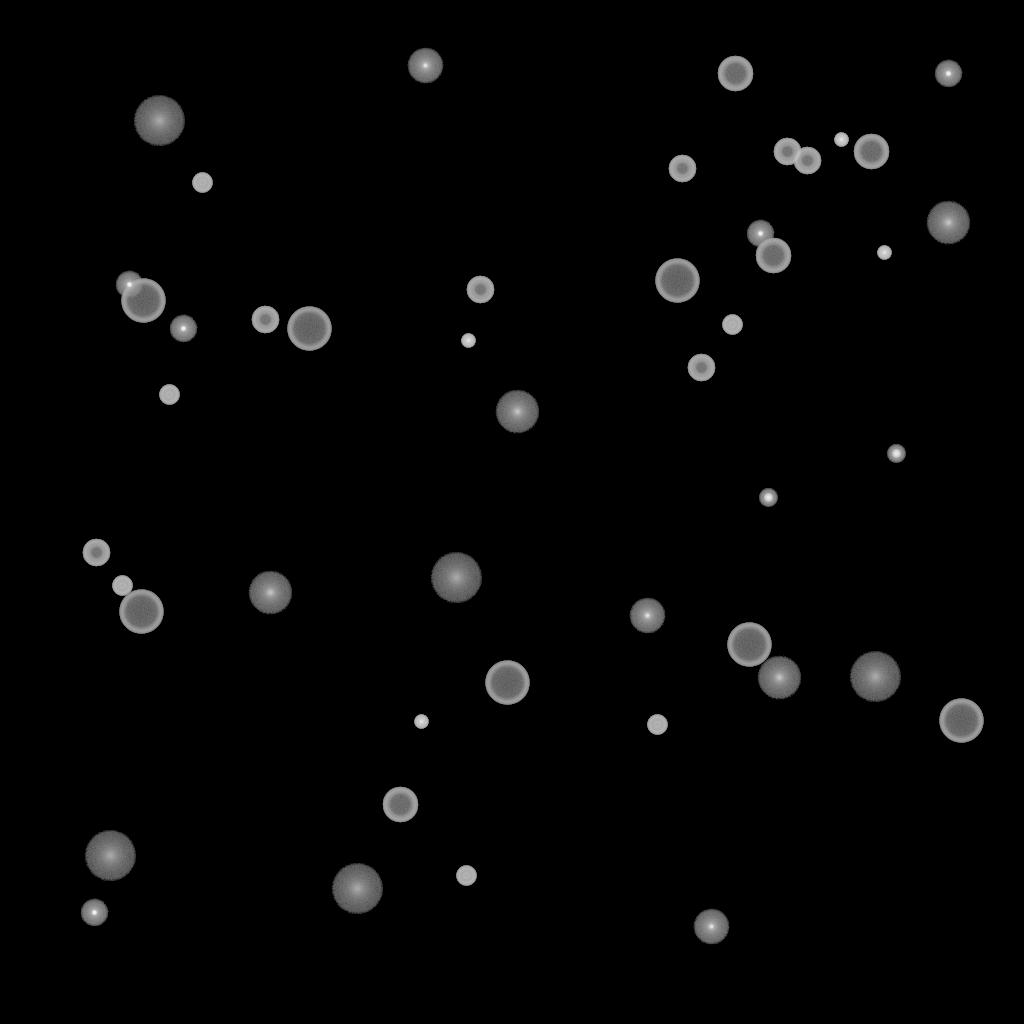depth:-10: (115, 271, 143, 299), (934, 60, 962, 88), (746, 220, 774, 248), (169, 315, 197, 343), (80, 899, 108, 927)
depth:-20: (759, 489, 777, 507), (887, 445, 905, 463)
depth:-30: (834, 133, 848, 147), (414, 715, 428, 729), (461, 334, 475, 348), (877, 246, 891, 260)
depth:-40: (112, 576, 132, 596), (159, 385, 179, 405), (456, 866, 476, 886), (192, 173, 212, 193), (647, 715, 667, 735), (722, 315, 742, 335)
depth:-50: (687, 354, 715, 382), (668, 155, 696, 183), (251, 306, 279, 334), (466, 276, 494, 304), (82, 539, 110, 567), (793, 147, 821, 175), (773, 138, 801, 166)
depth:-60: (853, 134, 889, 170), (755, 238, 791, 274), (382, 787, 418, 823), (717, 56, 753, 92)
depth:-70: (727, 623, 771, 667), (119, 590, 163, 634), (287, 307, 331, 351), (655, 259, 699, 303), (485, 661, 529, 705), (121, 279, 165, 323), (939, 699, 983, 743)
depth:0: (407, 48, 443, 84), (693, 909, 729, 945), (629, 598, 665, 634)
depth:10: (926, 201, 970, 245), (495, 390, 539, 434), (757, 656, 801, 700), (248, 571, 292, 615)
depth:20: (84, 831, 136, 881), (849, 652, 901, 702), (430, 553, 482, 603), (133, 96, 185, 146), (331, 864, 383, 914)
